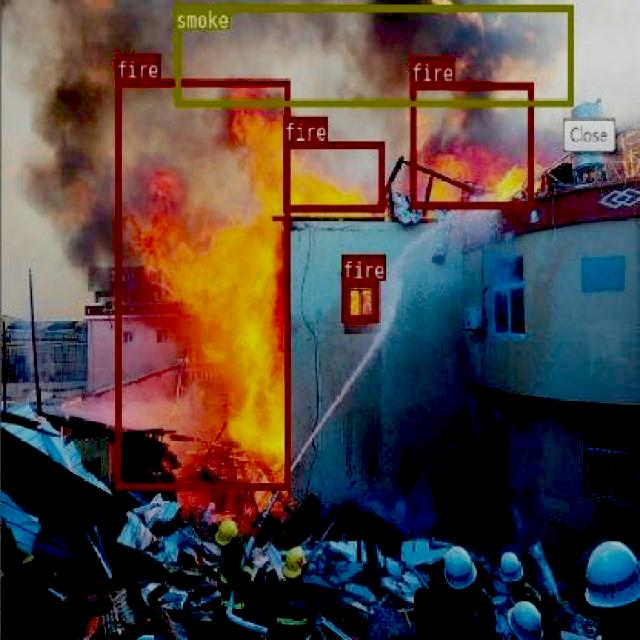fire: (114, 78, 288, 490), (410, 81, 532, 208), (282, 141, 384, 210), (340, 278, 378, 320)
smoke: (173, 3, 572, 105)
